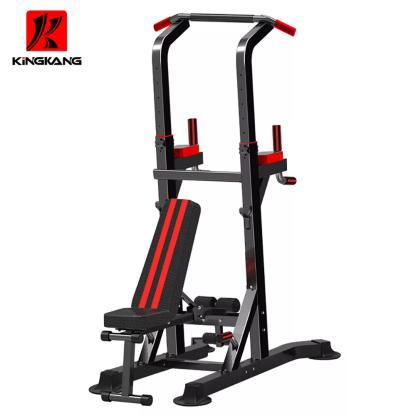chinning dipping: (151, 13, 340, 404)
